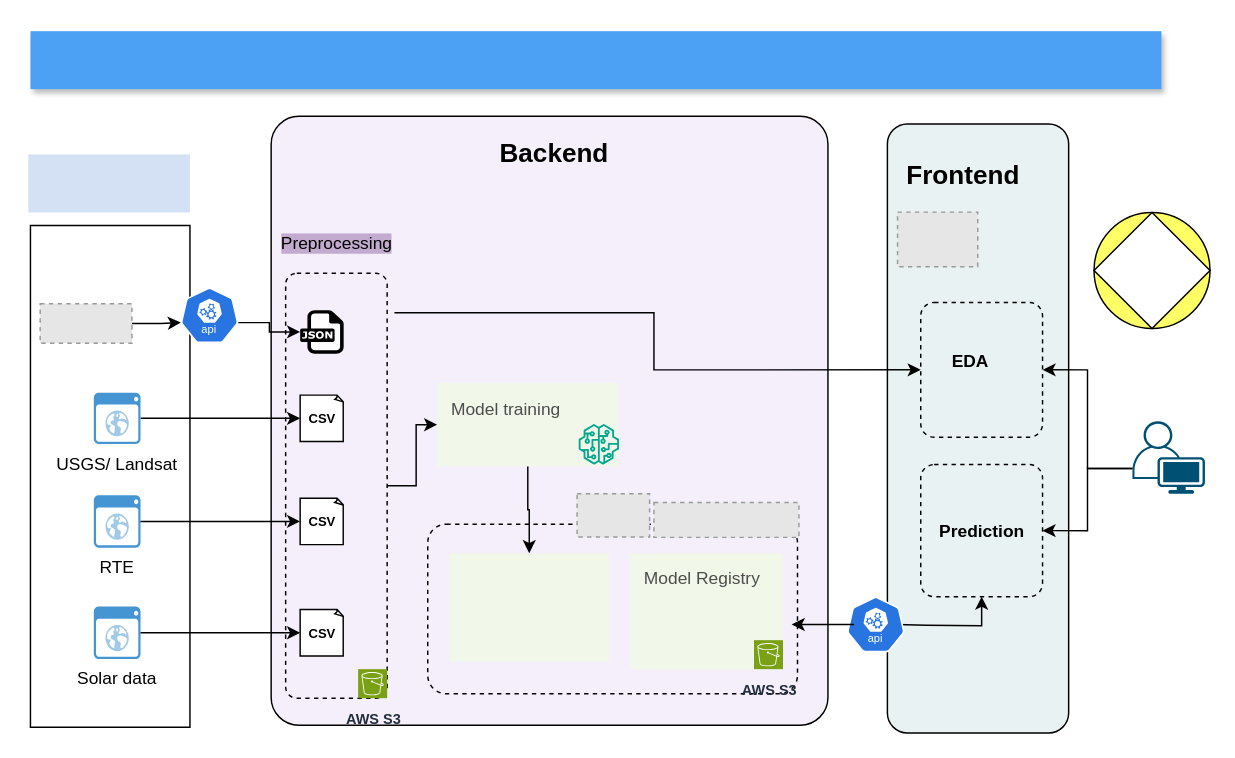
This 1235x758 diagram has some shape labels left out. Grey dashed boxes stand in for pictures. Here are the shapes that lost their labels. From the top down, the centre of each, then its label:
At [596,62]: "Application Architecture: Renewable Energies Efficiency Prediction".
At [108,183]: "Data sources".
At [1168,457]: "Client Testing".
At [528,606]: "Model tracking".
